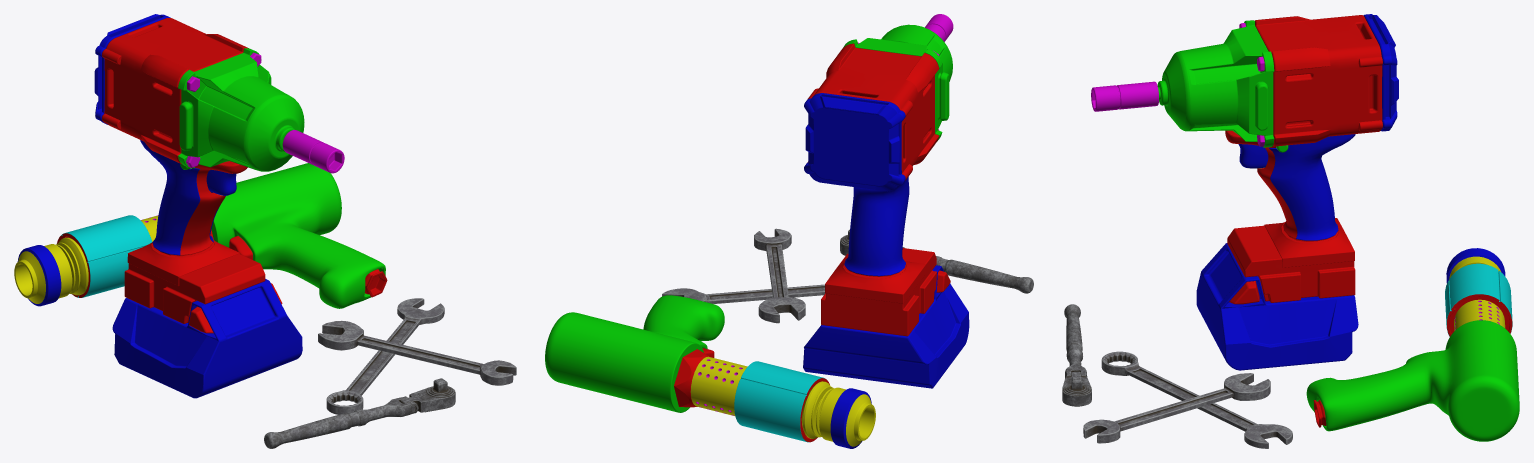
The model's file is tool collection (FBX).fbx.
3 views of the same model, side by side, from view 1: azimuth 30°, elevation 25°; view 2: azimuth 150°, elevation 25°; view 3: azimuth 270°, elevation 25° (orthographic).
Visible parts, largest first — view 1: impact wrench, Air hammer.007, Ratchet.004, wrench 2.001, wrench.001; view 2: impact wrench, Air hammer.007, wrench 2.001, Ratchet.004, wrench.001; view 3: impact wrench, Air hammer.007, wrench 2.001, wrench.001, Ratchet.004.
Part boxes in pixels (x1,y1,x2,y2): impact wrench: (94, 14, 344, 398); Air hammer.007: (14, 163, 387, 308); Ratchet.004: (264, 378, 455, 448); wrench 2.001: (318, 320, 516, 385); wrench.001: (326, 298, 444, 414); impact wrench: (803, 14, 969, 388); Air hammer.007: (545, 295, 875, 448); wrench 2.001: (754, 228, 805, 323); Ratchet.004: (840, 229, 1033, 293); wrench.001: (662, 284, 824, 303); impact wrench: (1091, 14, 1398, 370); Air hammer.007: (1306, 248, 1519, 441); wrench 2.001: (1083, 373, 1270, 443); wrench.001: (1101, 351, 1292, 448); Ratchet.004: (1062, 304, 1091, 406).
Bounding box in the file's own units: 26.67 × 25.23 × 34.29.
